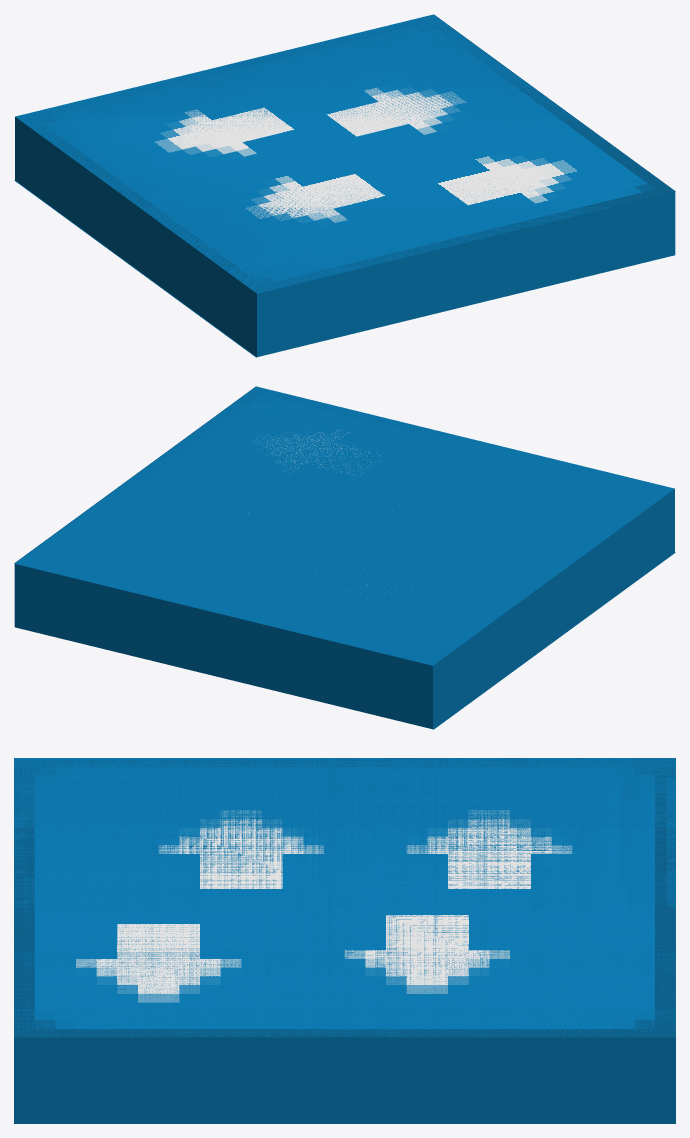
File: forwardingbox_updated.dae
The picture shows the model from 3 angles, top to bottom: view 1: azimuth 30°, elevation 25°; view 2: azimuth 150°, elevation 25°; view 3: azimuth 270°, elevation 25°; orthographic projection. The views are drawn at different scales.
Visible parts, largest first — view 1: SketchUp, image_0; view 2: SketchUp, image_0; view 3: image_0, SketchUp.
Part boxes in pixels (x1=…): SketchUp: x1=15, y1=14, x2=675, y2=357; image_0: x1=16, y1=14, x2=675, y2=292; SketchUp: x1=14, y1=386, x2=674, y2=729; image_0: x1=14, y1=386, x2=480, y2=663; image_0: x1=14, y1=758, x2=675, y2=1037; SketchUp: x1=14, y1=758, x2=675, y2=1123.
Size of the model in its own units: 48.06 by 47.98 by 6.95.
Materials: 2 (1 with a texture image).
